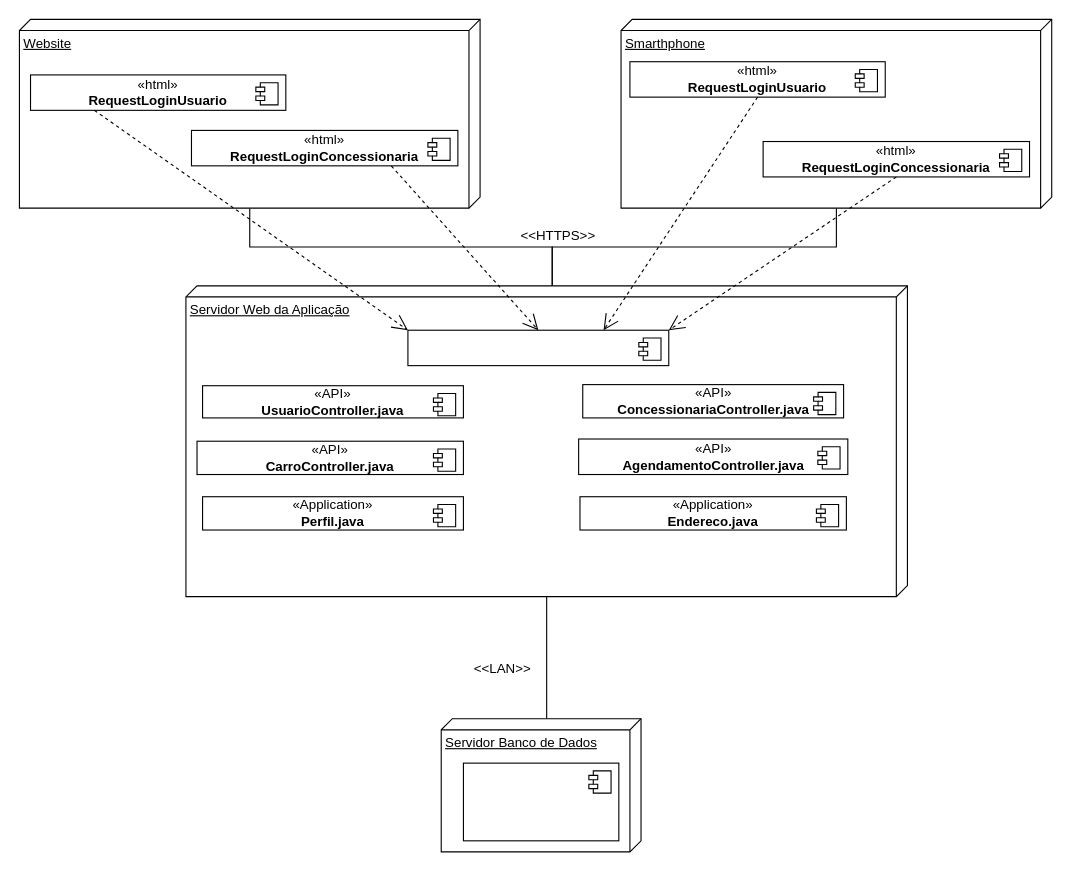
The diagram is 1071 pixels wide and 871 high, and some of its shapes have lost their labels. The shapes that lost their labels are listed below. From the top down, each one's centre as x and y in pixels, then its label:
the point at 538,347: «API» AutenticacaoController.java
the point at 540,801: «DataBase» MySQL DB
